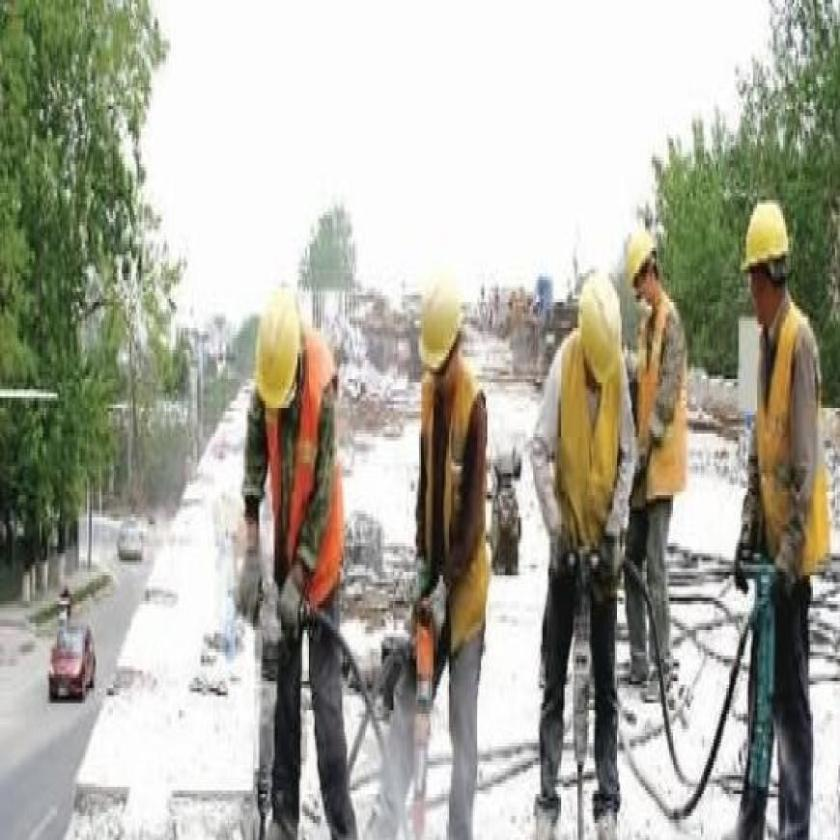Con_casco: (728, 183, 807, 327), (252, 284, 306, 418), (576, 270, 627, 389), (416, 270, 465, 392), (624, 226, 668, 303)
